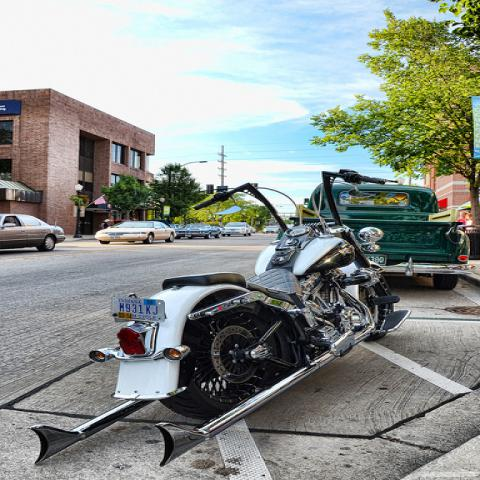car: (0, 213, 67, 251), (95, 220, 178, 246), (176, 224, 221, 239), (220, 222, 252, 236), (261, 222, 291, 234)
motorcycle: (29, 168, 420, 466)
truck: (293, 179, 472, 290), (220, 222, 254, 236)
